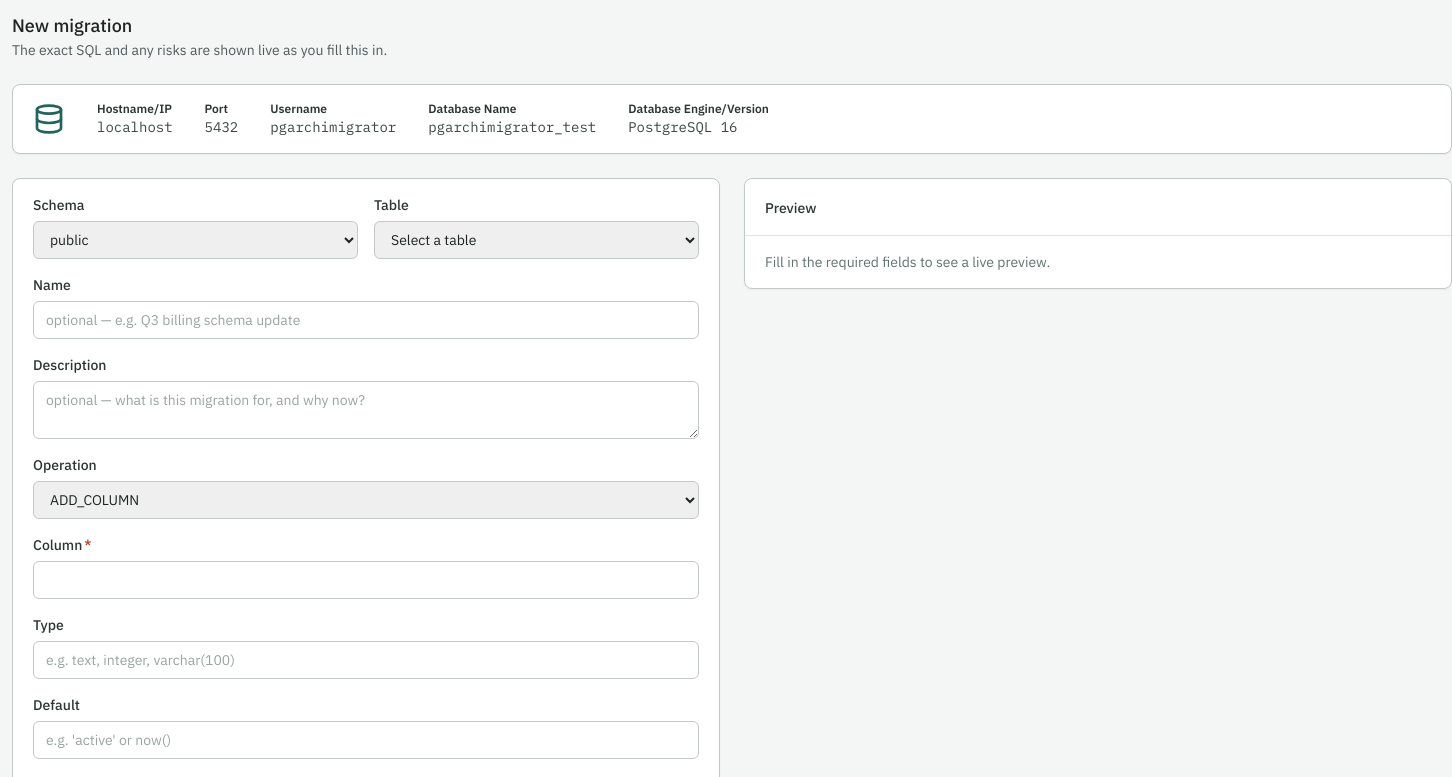
Test case: NewMigration — write load check (SHADOW_TABLE only) › shows an error message if the write-load check itself fails
The width and height of the screenshot is (1452, 777).
Select "orders" in the dropdown labelled "Table" at (536, 240), box [374, 221, 699, 259]
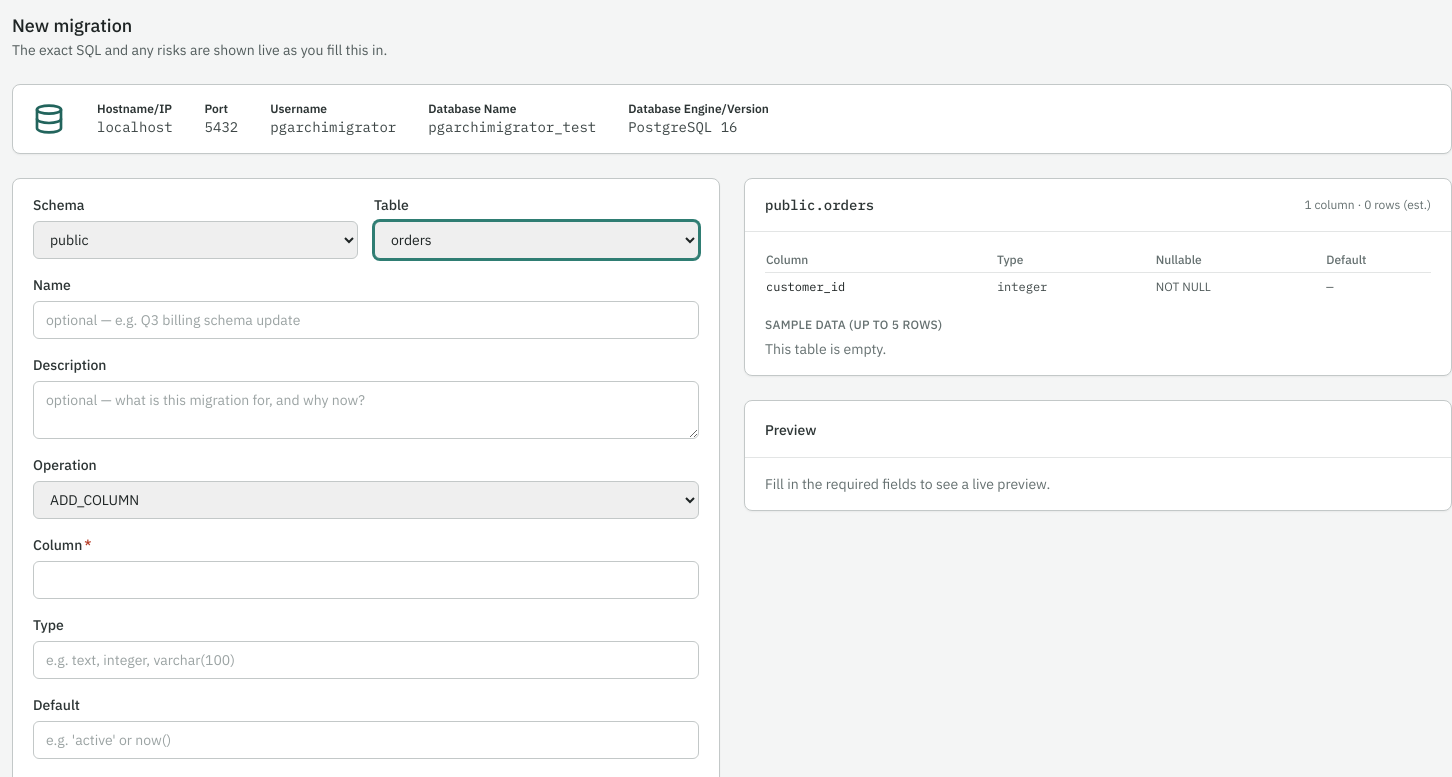
Select "ALTER_COLUMN_TYPE" in the dropdown labelled "Operation" at (366, 500), box [33, 481, 699, 519]
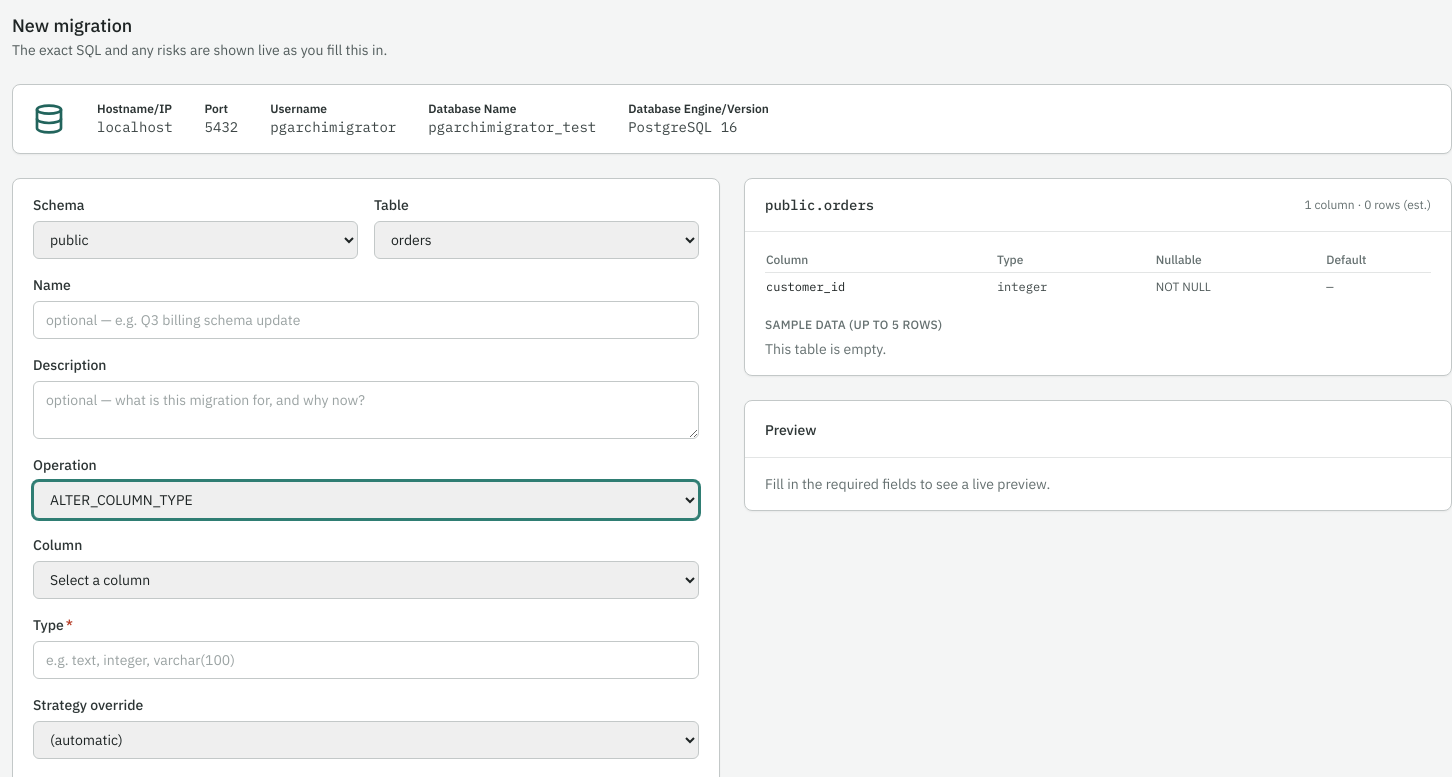
Select "customer_id — integer" in the dropdown labelled "Column" at (366, 580), box [33, 561, 699, 599]
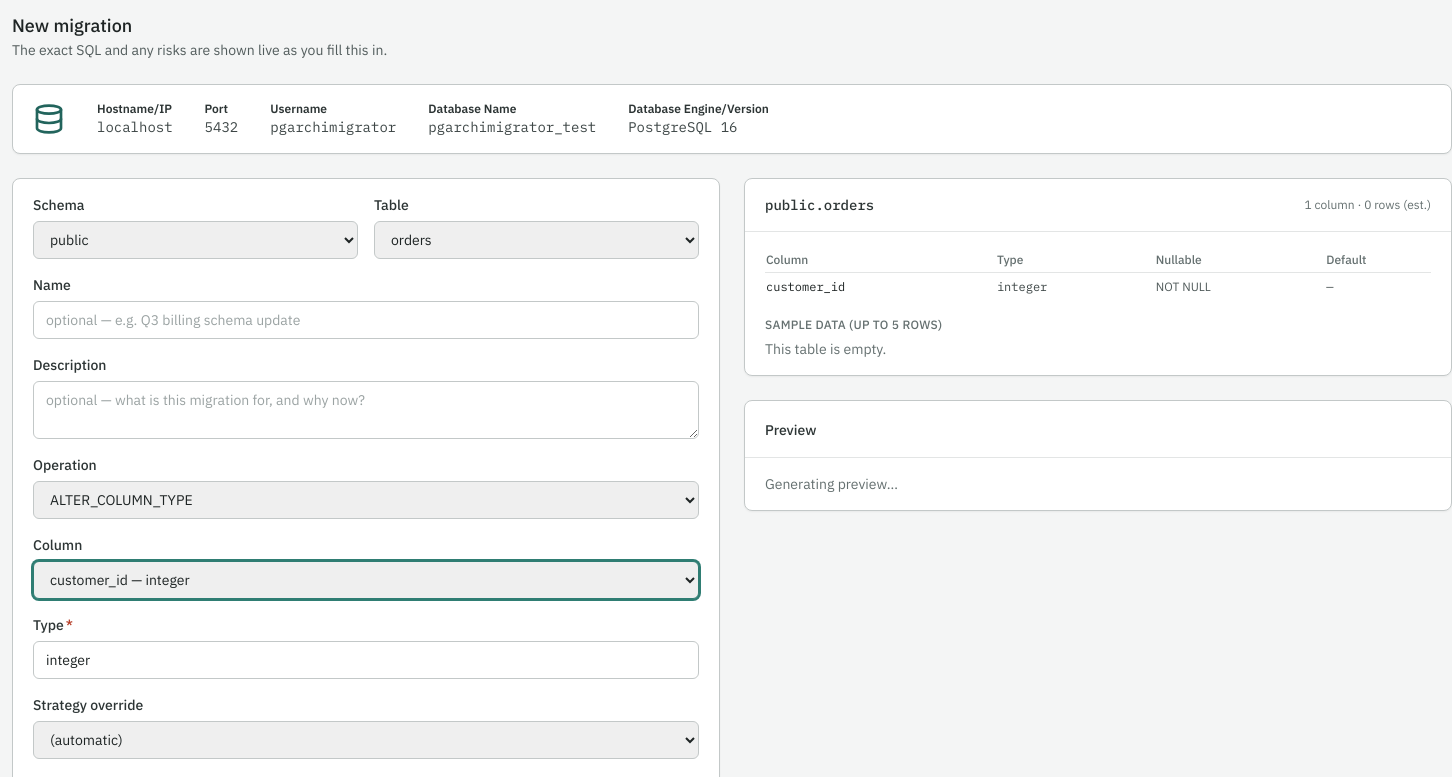
Type "text" into the field labelled "Type*" at (366, 660), box [33, 641, 699, 679]
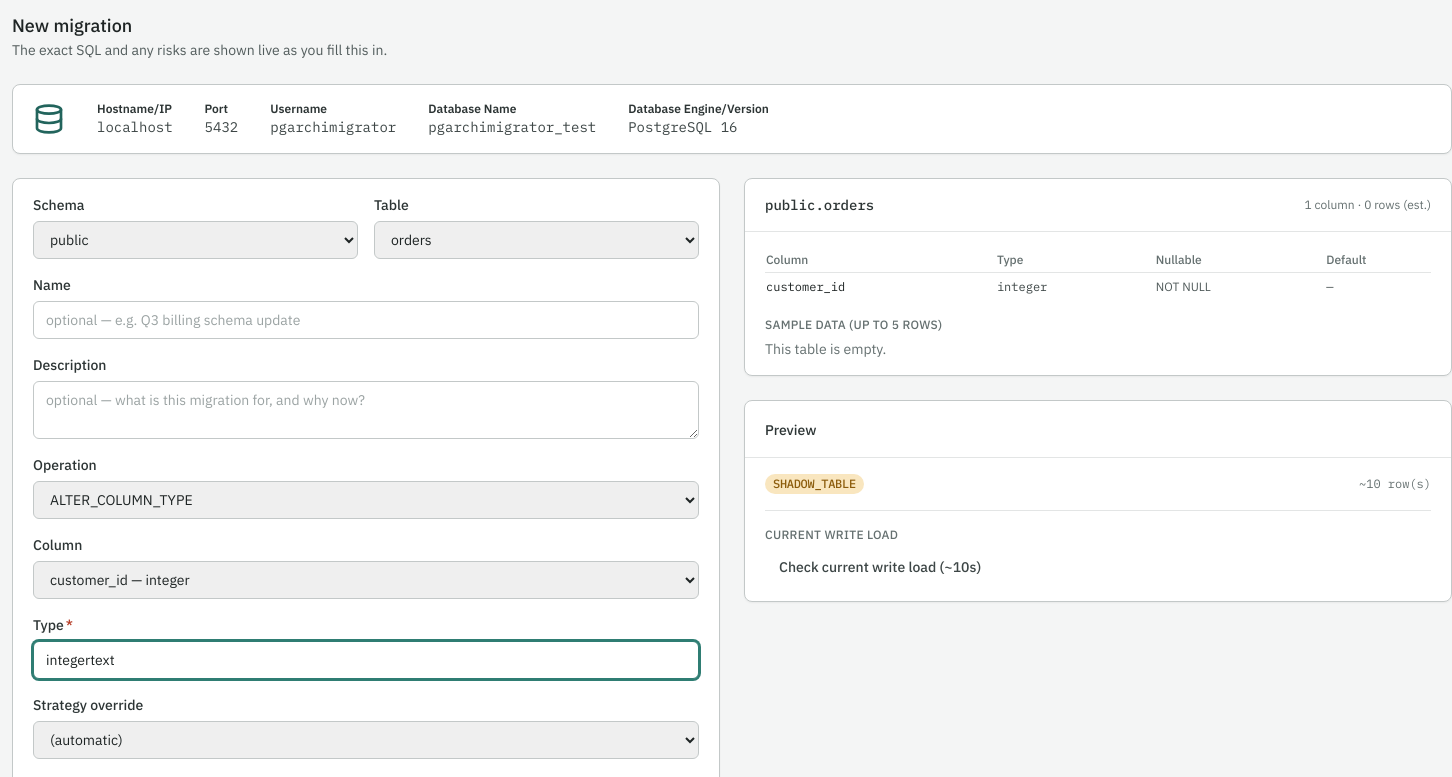
Check: the text "Generating preview…" is gone
Click the button "Check current write load (~10s)" at (880, 567), box [765, 549, 995, 585]
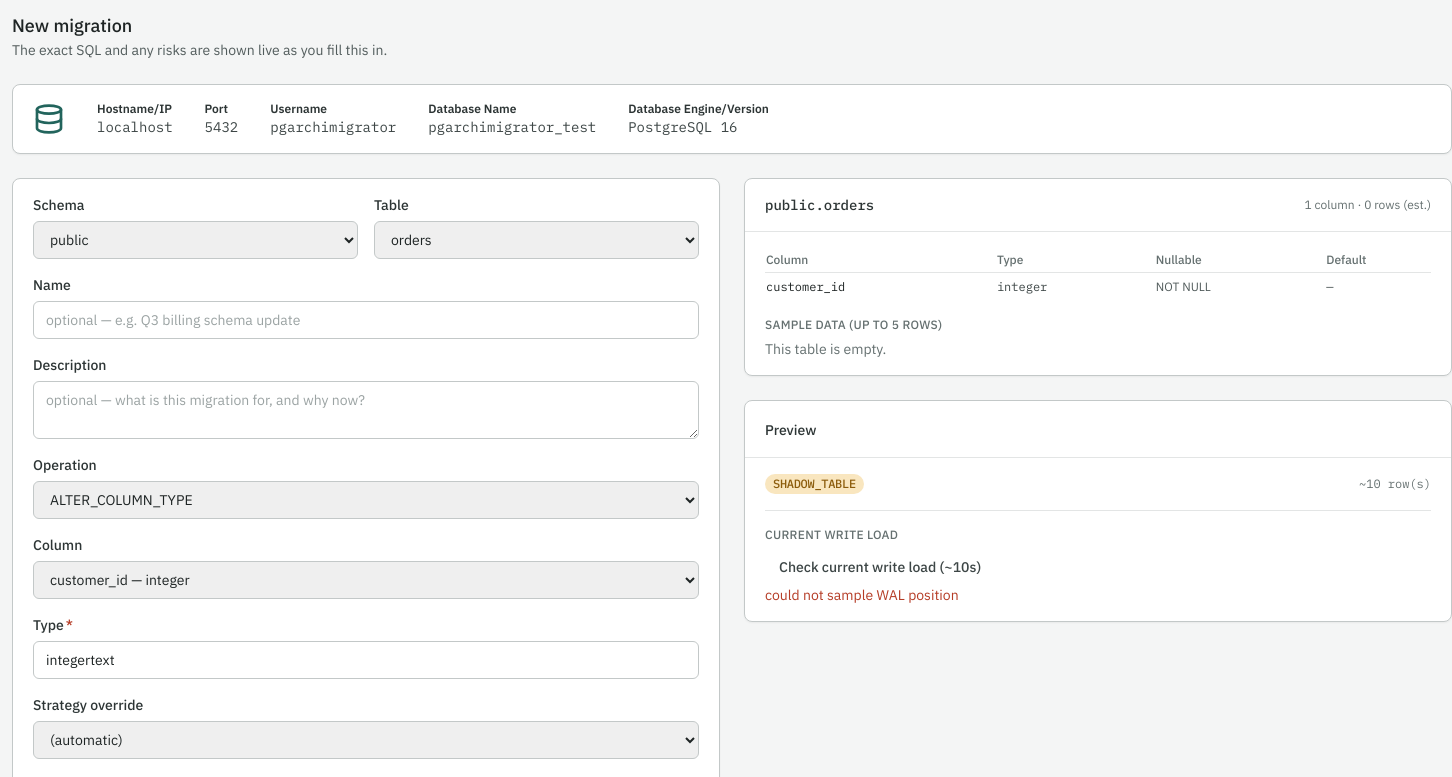
Check: the text "could not sample WAL position" is shown, box [765, 586, 959, 604]
